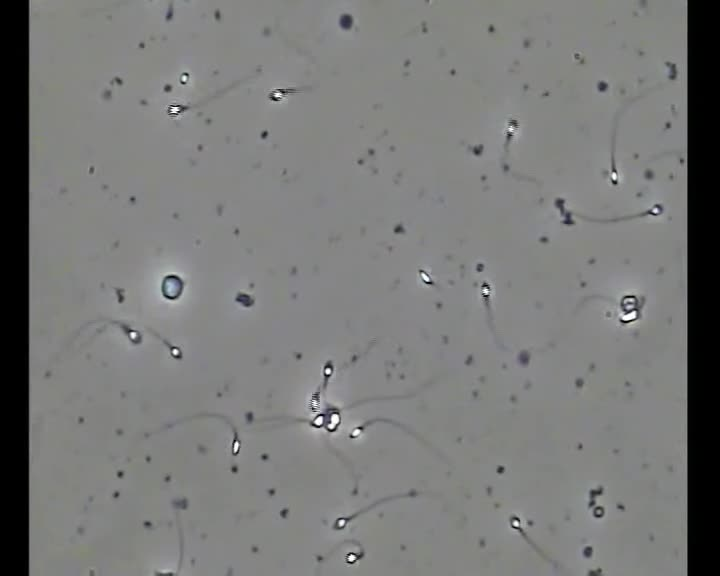spermhead: (161, 274, 183, 300), (324, 406, 341, 432), (620, 294, 641, 311), (265, 86, 287, 100), (618, 310, 639, 324), (417, 268, 434, 285), (125, 327, 141, 345), (346, 549, 365, 564), (321, 360, 334, 380), (507, 121, 519, 141), (509, 515, 523, 531), (168, 99, 186, 111), (310, 413, 324, 428), (647, 203, 663, 216), (608, 168, 620, 185), (483, 282, 494, 300), (231, 432, 240, 454), (333, 516, 348, 529), (169, 344, 182, 359), (349, 425, 363, 438), (553, 196, 565, 211), (311, 399, 320, 416), (155, 569, 177, 575), (180, 71, 189, 84)
